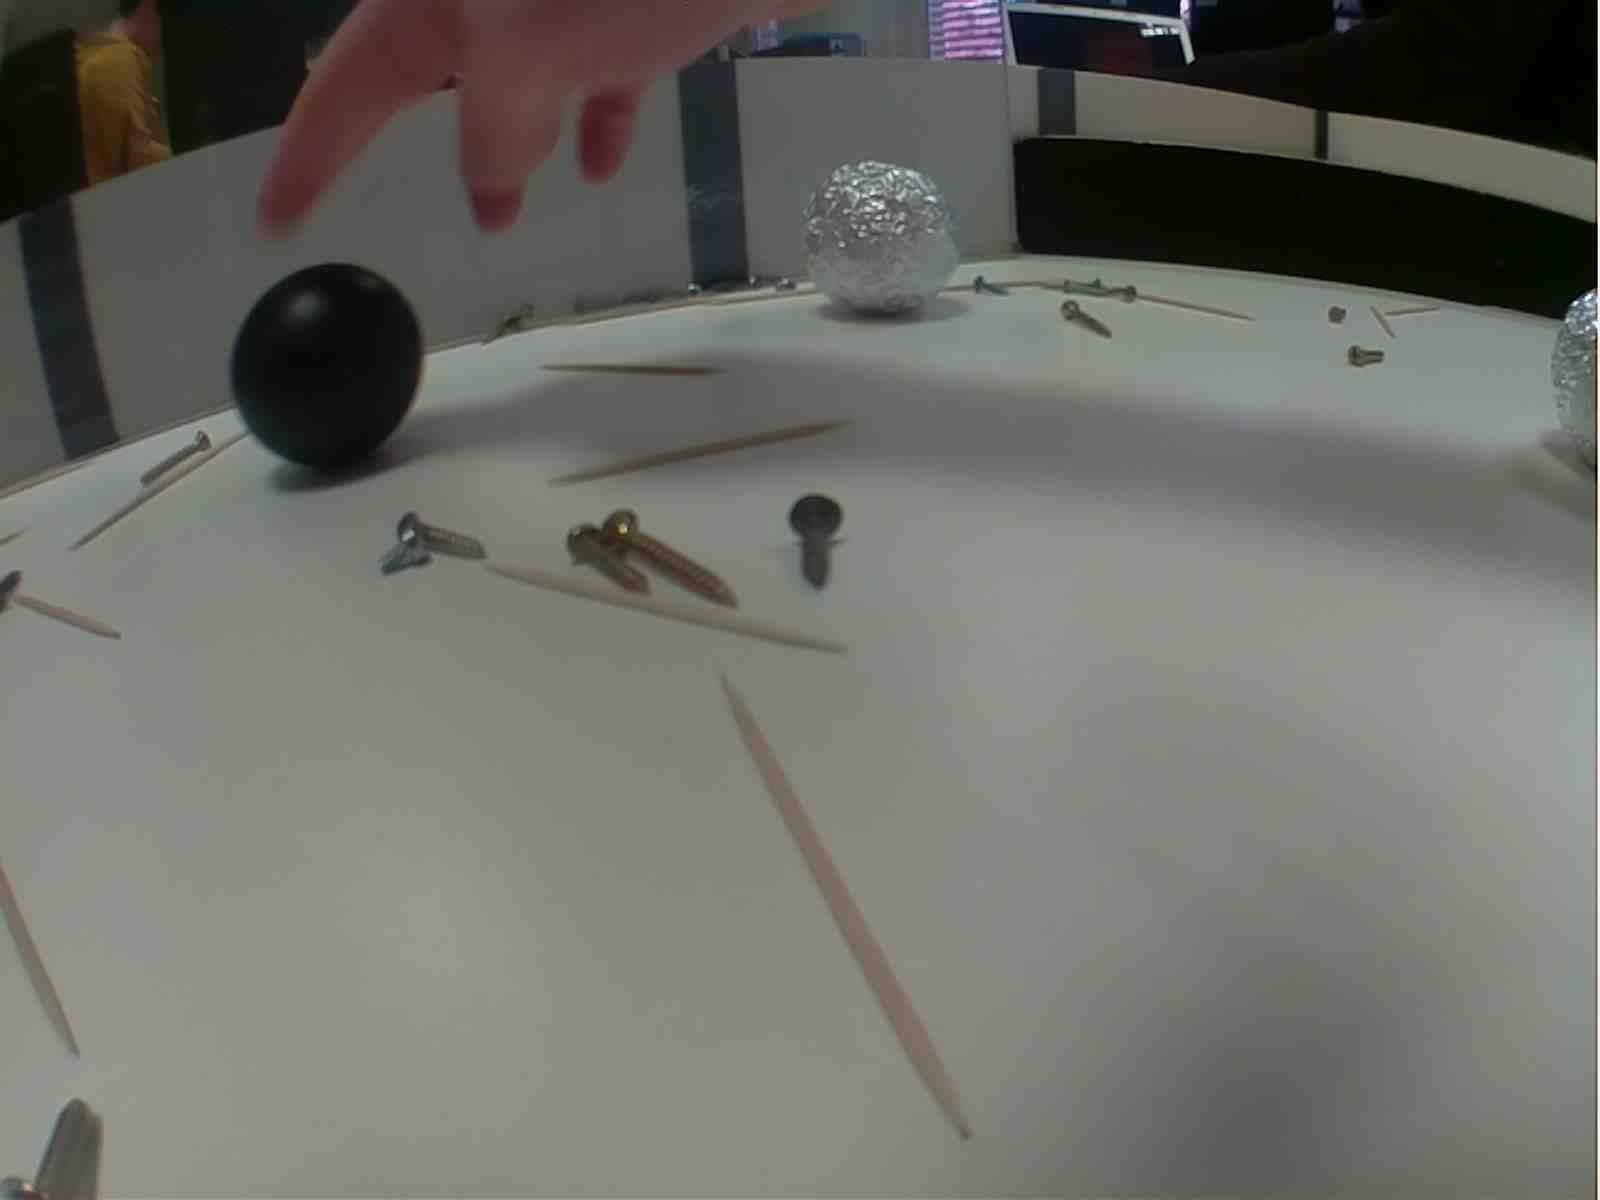bianca: (792, 153, 960, 320), (1551, 294, 1600, 471)
nera: (229, 263, 430, 464)
